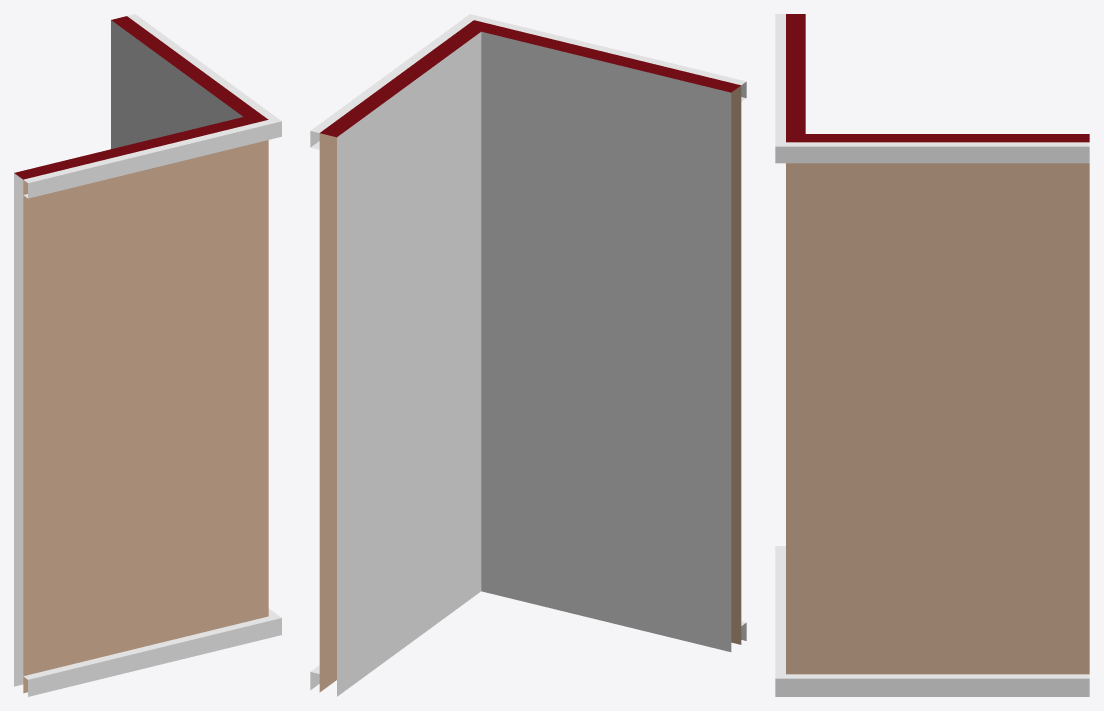
File: Wall02_corner_01.fbx
3 renders of one model, left to right at view 1: azimuth 30°, elevation 25°; view 2: azimuth 150°, elevation 25°; view 3: azimuth 270°, elevation 25°, orthographic. The views are drawn at different scales.
Visible parts, largest first — view 1: Cube.005; view 2: Cube.005; view 3: Cube.005.
Part boxes in pixels (x1,y1,x2,y2): Cube.005: (14,14,281,696); Cube.005: (310,14,746,696); Cube.005: (775,14,1089,696).
Bounding box in the file's own units: 207 × 400 × 207.
